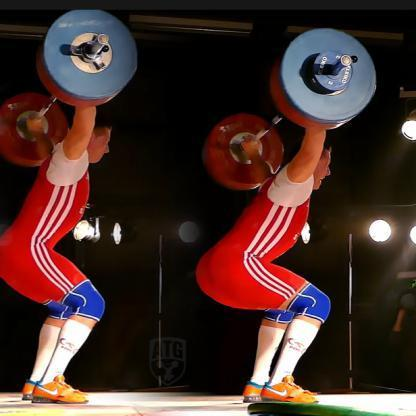barbell: (202, 26, 378, 191), (0, 7, 138, 168)
